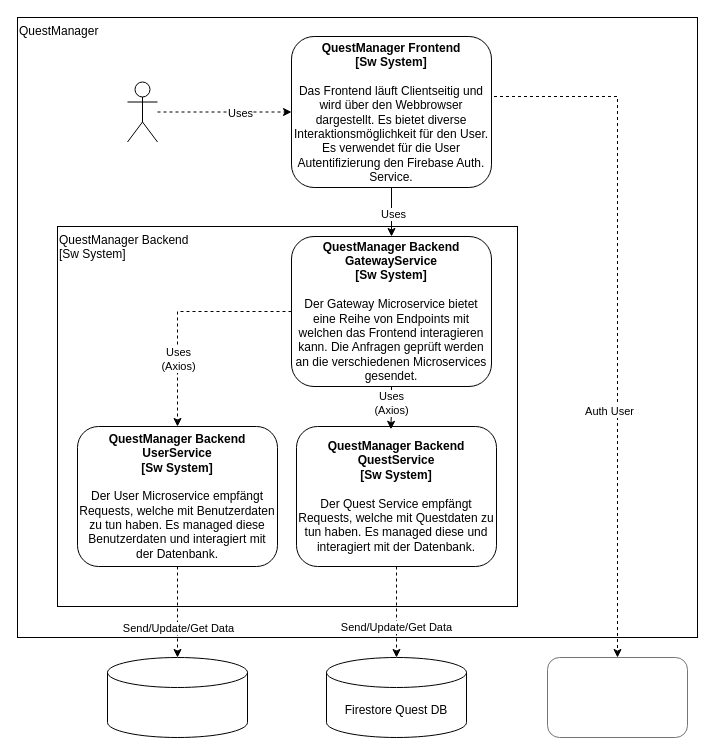
Some shapes in this 715 by 755 pixel diagram are drawn without their labels. The shapes that lost their labels are listed below. From the top down, each one's centre as x and y in pixels, then its label:
At (x=142, y=111): "User [Person]".
At (x=177, y=697): "Firestore User DB".
At (x=617, y=697): "Firebase Auth Service".
